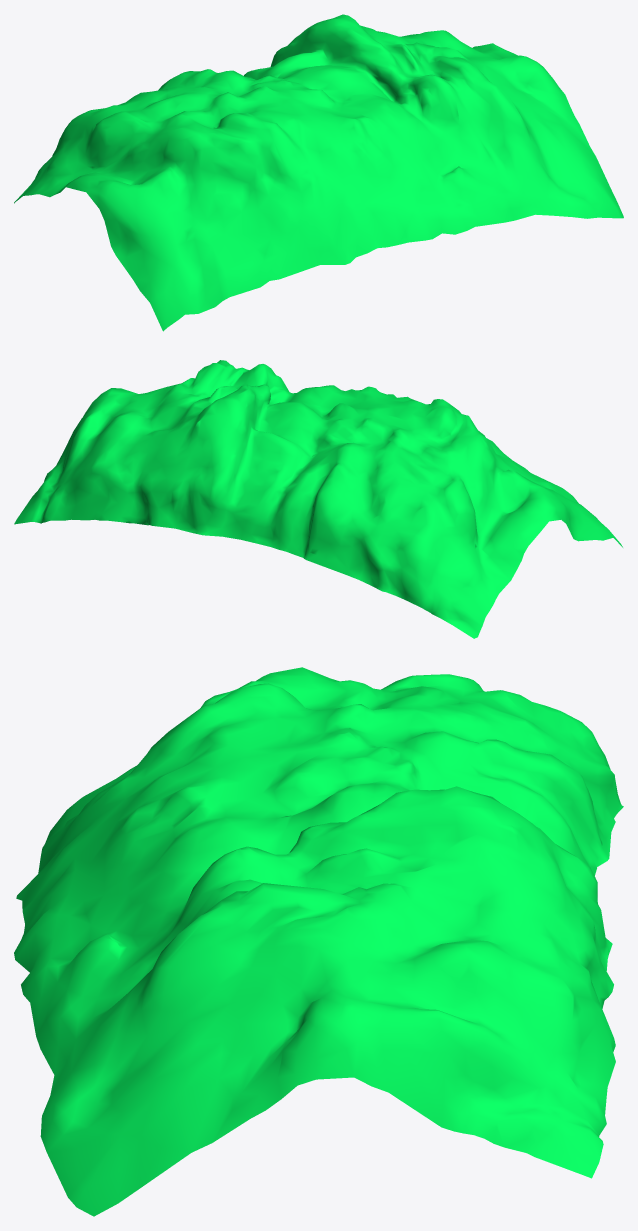
The model's file is Side_Rock_001.fbx.
The picture shows the model from 3 angles, top to bottom: view 1: azimuth 30°, elevation 25°; view 2: azimuth 150°, elevation 25°; view 3: azimuth 270°, elevation 25°; orthographic projection. The views are drawn at different scales.
Visible parts, largest first — view 1: Side_Rock_001; view 2: Side_Rock_001; view 3: Side_Rock_001.
Part boxes in pixels (x1,y1,x2,y2): Side_Rock_001: [14, 14, 623, 331]; Side_Rock_001: [14, 360, 622, 638]; Side_Rock_001: [14, 667, 623, 1216].
Bounding box in the file's own units: 3159 × 2093 × 1056.
